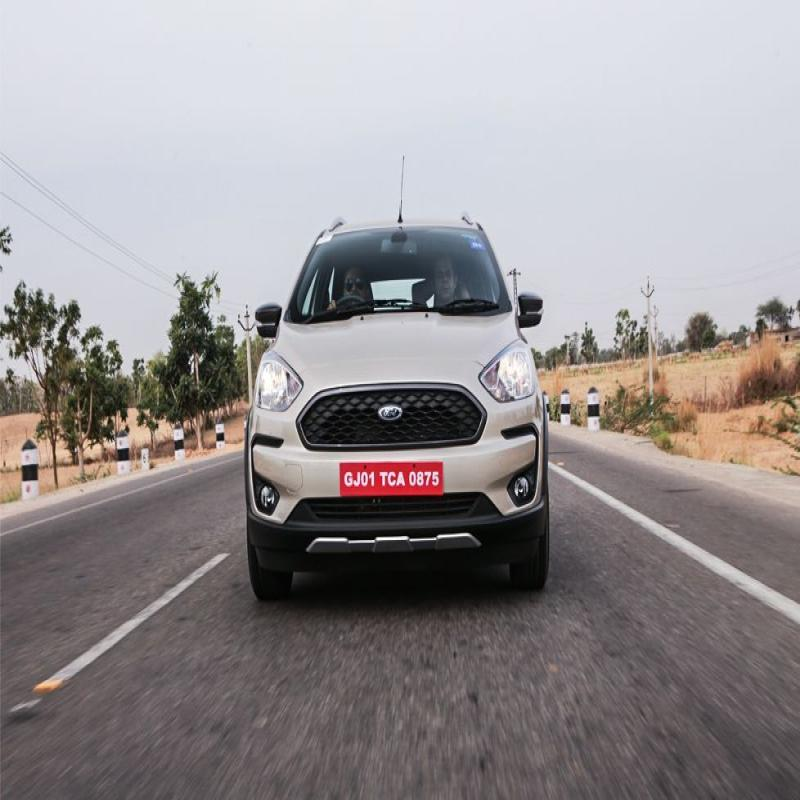car: (226, 178, 596, 585)
